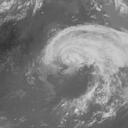cyclone: (44, 22, 127, 85)
